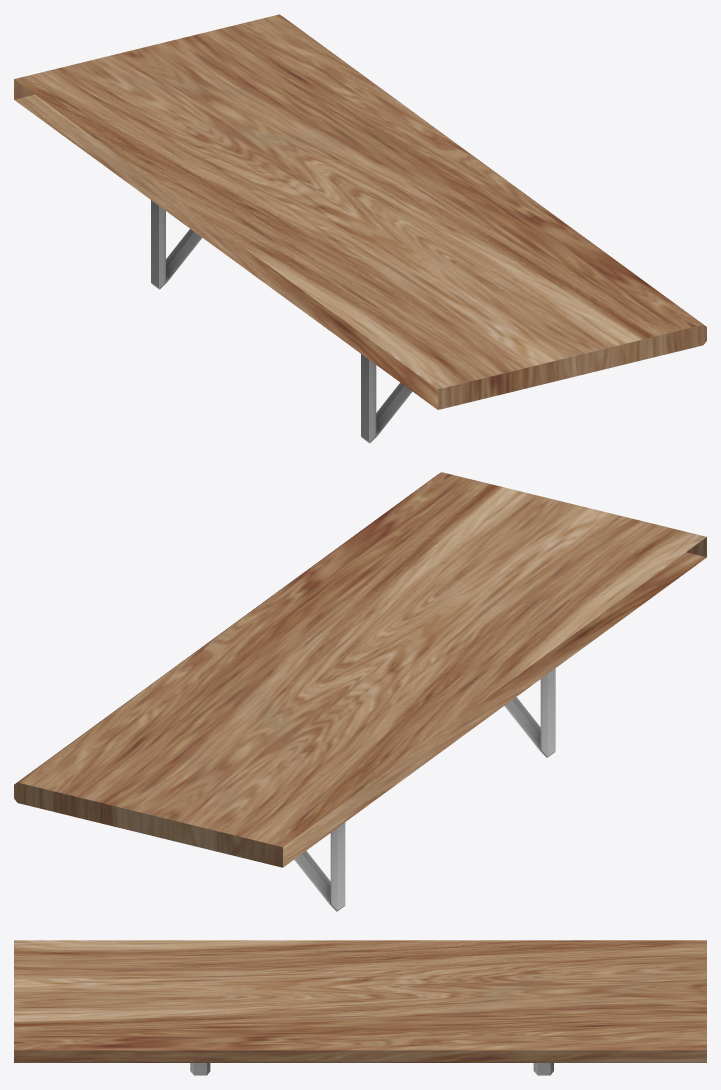
File: MountedShelf.fbx
3 views of the same model, one above another, from view 1: azimuth 30°, elevation 25°; view 2: azimuth 150°, elevation 25°; view 3: azimuth 270°, elevation 25° (orthographic). The views are drawn at different scales.
Visible parts, largest first — view 1: MountedShelf; view 2: MountedShelf; view 3: MountedShelf.
Boxes of the visible parts, x1,y1,x2,y2 form: MountedShelf: (14, 14, 706, 443); MountedShelf: (14, 472, 706, 911); MountedShelf: (14, 940, 706, 1075).
Bounding box in the file's own units: 0.3662 × 0.1885 × 1.
